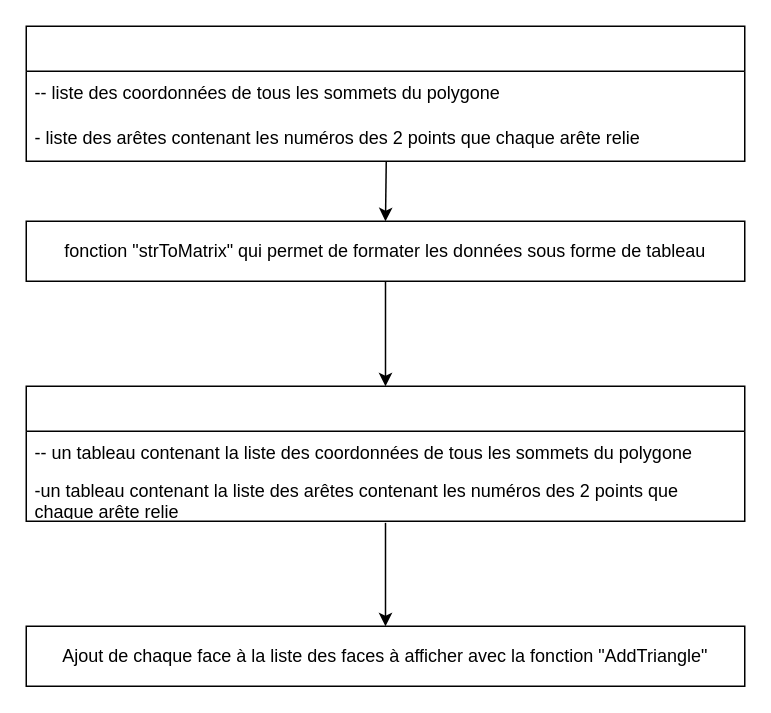
This 771x713 diagram has some shape labels left out. Here are the shapes that lost their labels. From the top down, the box of each, then its label:
(25, 25, 745, 161): fichier 3D issu d'une modélisation
(25, 385, 745, 521): matrice contenant 2 tableaux
